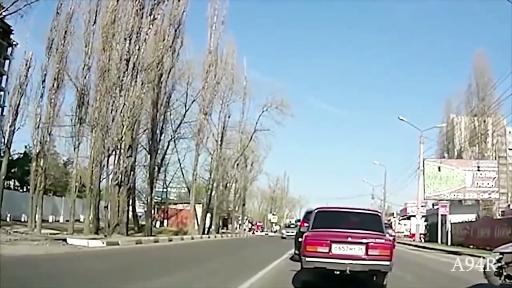CAR: (308, 205, 397, 288), (281, 223, 300, 240)
